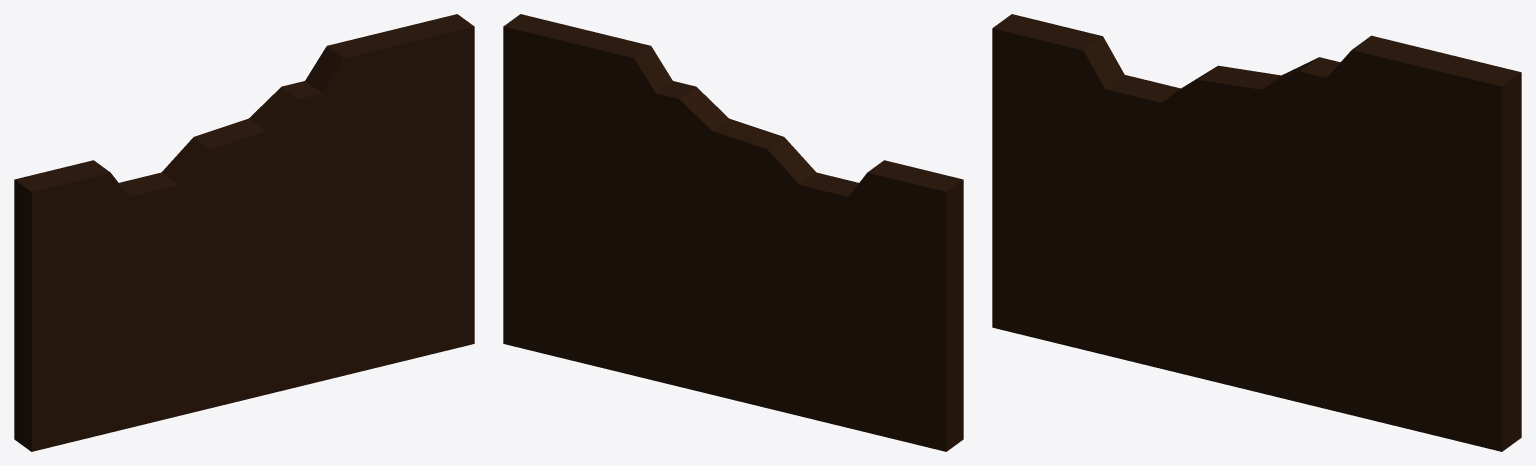
File: Wall_Plaster_01E.fbx
The picture shows the model from 3 angles, left to right: view 1: azimuth 30°, elevation 25°; view 2: azimuth 150°, elevation 25°; view 3: azimuth 330°, elevation 25°; orthographic projection. The views are drawn at different scales.
Visible parts, largest first — view 1: Wall_Plaster_01E; view 2: Wall_Plaster_01E; view 3: Wall_Plaster_01E.
Part boxes in pixels (box(x1,y1,x2,y2)): Wall_Plaster_01E: box(14, 14, 474, 451); Wall_Plaster_01E: box(503, 14, 963, 451); Wall_Plaster_01E: box(992, 14, 1521, 451).
Bounding box in the file's own units: 300 × 205 × 20.
